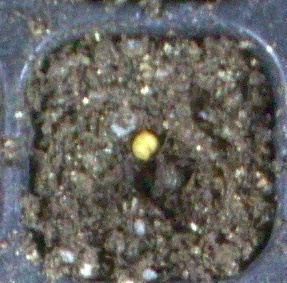chilli seed: (130, 130, 161, 161)
